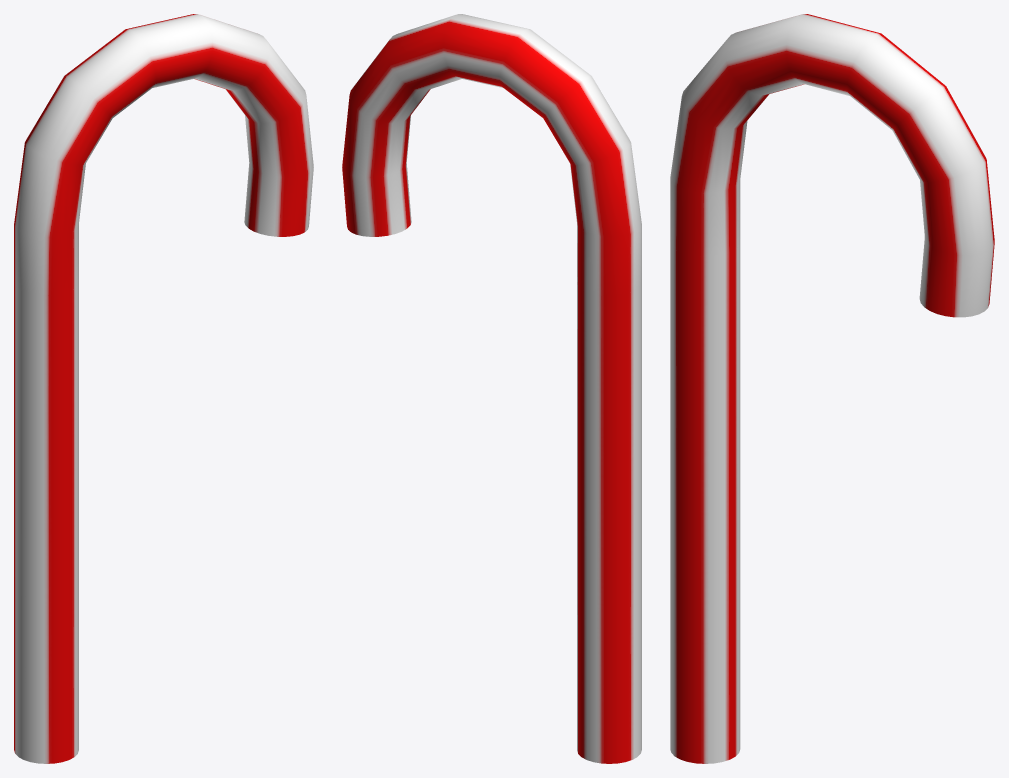
File: CandyCane.fbx
3 renders of one model, left to right at view 1: azimuth 30°, elevation 25°; view 2: azimuth 150°, elevation 25°; view 3: azimuth 330°, elevation 25°, orthographic. The views are drawn at different scales.
Visible parts, largest first — view 1: pCylinder1; view 2: pCylinder1; view 3: pCylinder1.
Boxes of the visible parts, x1,y1,x2,y2 form: pCylinder1: (14, 14, 313, 763); pCylinder1: (342, 14, 641, 763); pCylinder1: (670, 14, 994, 763).
Size of the model in its own units: 10.37 by 23.76 by 2.
1 material, 1 textured.
